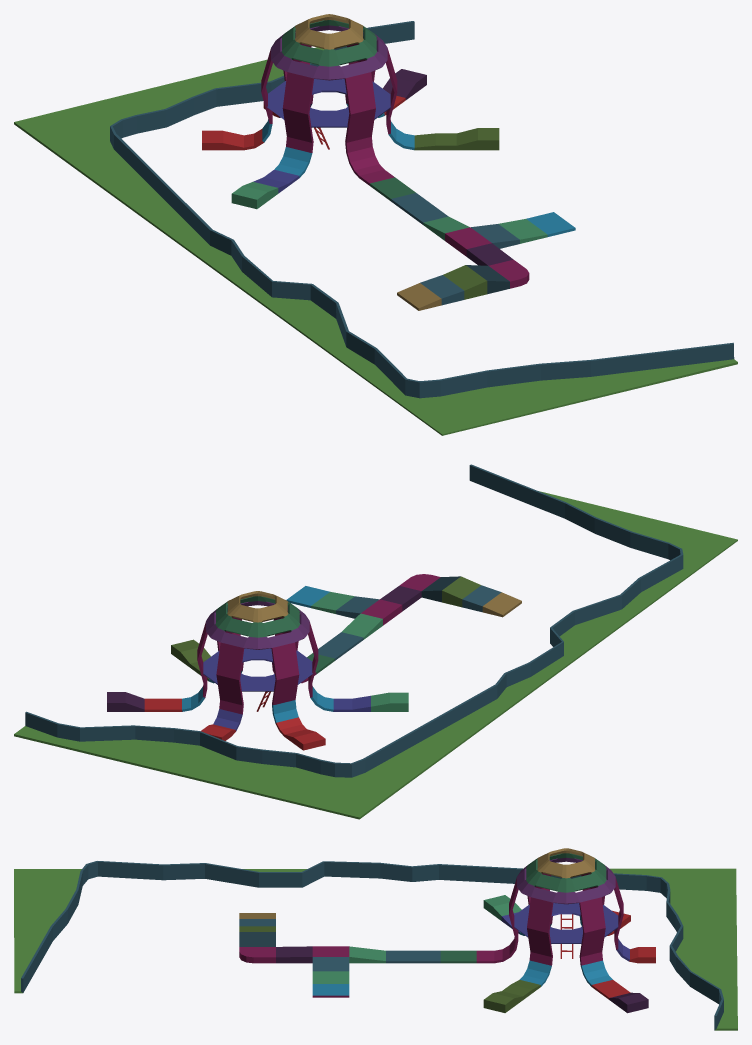
File: Kids_Mesh.fbx
The picture shows the model from 3 angles, top to bottom: view 1: azimuth 30°, elevation 25°; view 2: azimuth 150°, elevation 25°; view 3: azimuth 270°, elevation 25°; orthographic projection. The views are drawn at different scales.
Parts seen in each view (by area): view 1: KidSpace_gBorder, Sphere, Sphere.002; view 2: KidSpace_gBorder, Sphere, Sphere.002; view 3: KidSpace_gBorder, Sphere, Sphere.002.
Boxes of the visible parts, <box> form: KidSpace_gBorder: <box>14,21,737,435</box>; Sphere: <box>202,14,575,310</box>; Sphere.002: <box>267,79,390,127</box>; KidSpace_gBorder: <box>14,464,737,819</box>; Sphere: <box>107,574,521,750</box>; Sphere.002: <box>203,648,312,691</box>; KidSpace_gBorder: <box>14,861,737,1030</box>; Sphere: <box>239,848,655,1013</box>; Sphere.002: <box>514,903,618,943</box>.
Size of the model in its own units: 3148 by 949 by 6020.
Materials: 1 (1 with a texture image).
